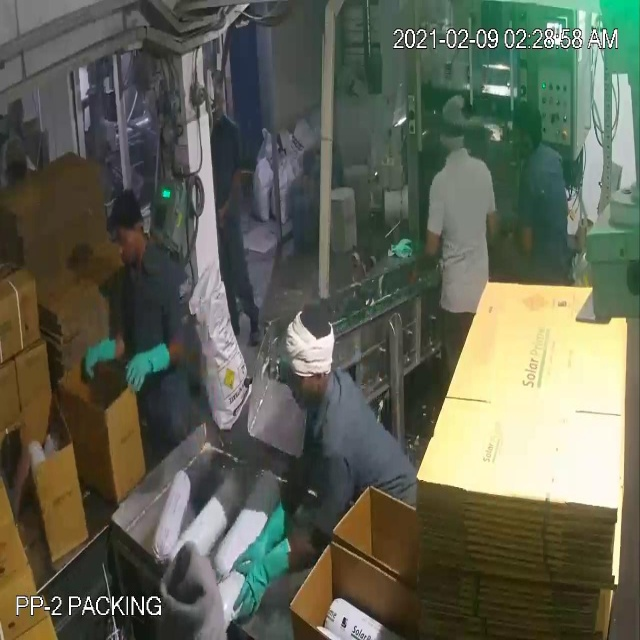Guantes: (230, 498, 296, 589), (236, 548, 295, 626), (121, 341, 178, 397), (78, 327, 122, 385)
Sin_guantes: (218, 161, 252, 242), (408, 216, 439, 295), (11, 436, 35, 523)
